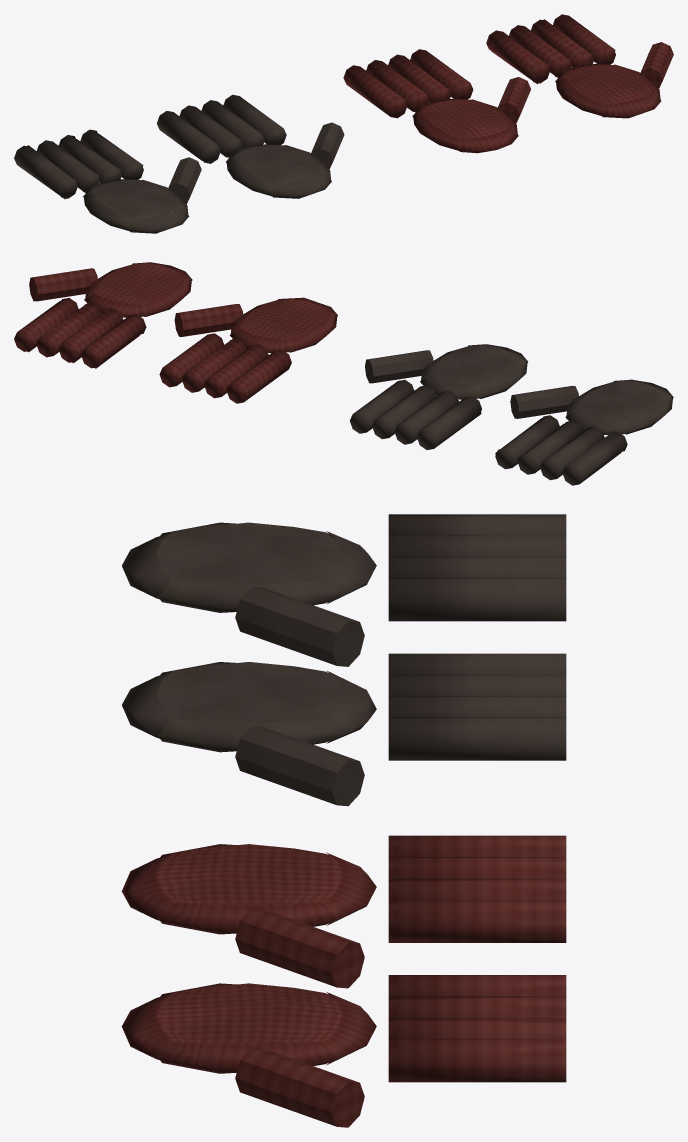
File: CL08_GlovesPair.glb
3 views of the same model, one above another, from view 1: azimuth 30°, elevation 25°; view 2: azimuth 150°, elevation 25°; view 3: azimuth 270°, elevation 25° (orthographic). The views are drawn at different scales.
Parts seen in each view (by area): view 1: CL08_GlovesPair; view 2: CL08_GlovesPair; view 3: CL08_GlovesPair.
Boxes of the visible parts, left/top/right/bottom form: CL08_GlovesPair: left=14, top=14, right=673, bottom=233; CL08_GlovesPair: left=14, top=262, right=673, bottom=485; CL08_GlovesPair: left=121, top=514, right=566, bottom=1127.
Size of the model in its own units: 0.25 by 0.00913 by 0.08.
2 materials, 2 textured.
